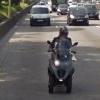Motorcycle: (36, 24, 81, 97)
